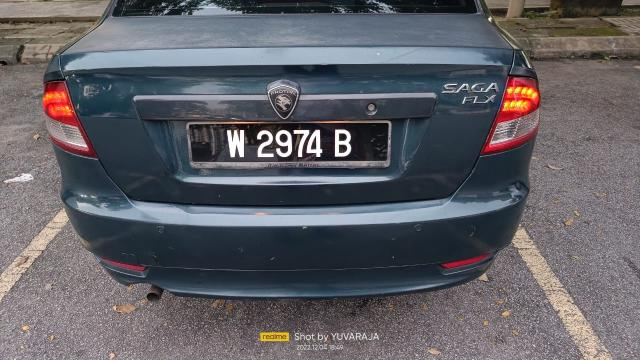License_Plate: (191, 124, 385, 166)
